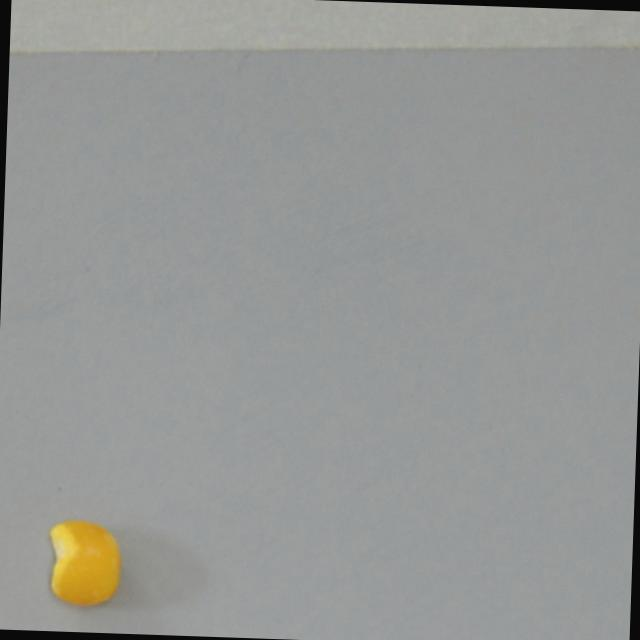no_canjicado: (27, 508, 128, 612)
